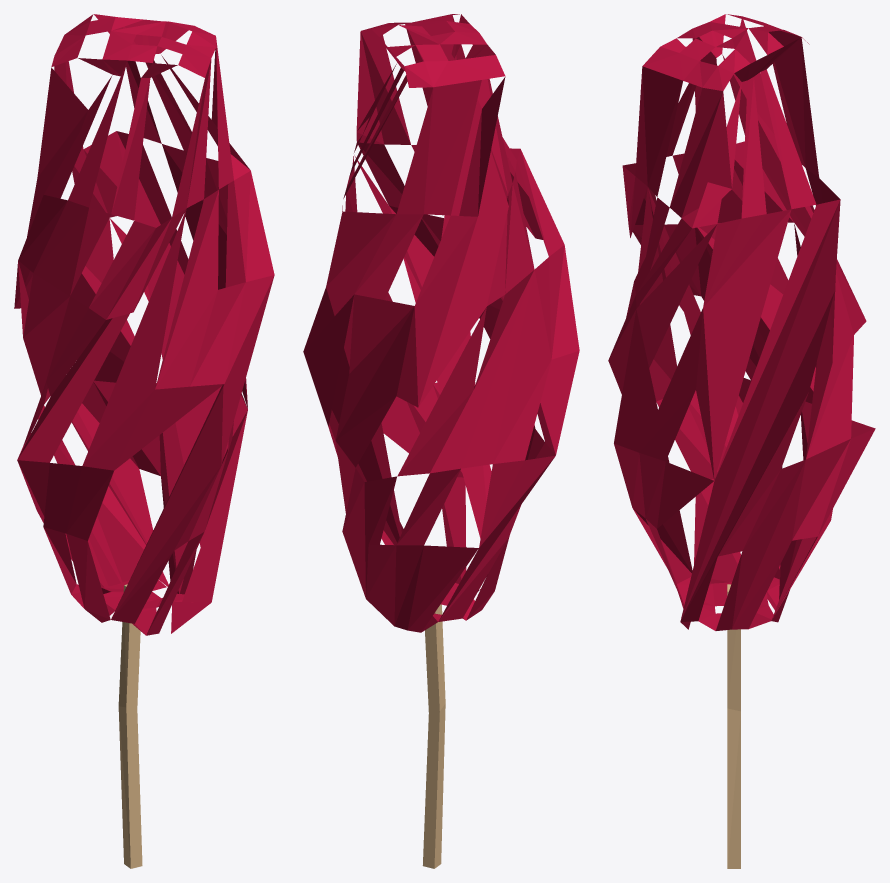
Rendered from world_3_tree_medium.dae.
3 renders of one model, left to right at view 1: azimuth 30°, elevation 25°; view 2: azimuth 150°, elevation 25°; view 3: azimuth 270°, elevation 25°, orthographic.
Parts seen in each view (by area): view 1: medium_cherry_leaves, medium_cherry_base; view 2: medium_cherry_leaves, medium_cherry_base; view 3: medium_cherry_leaves, medium_cherry_base.
Boxes of the visible parts, bbox=[...] form: medium_cherry_leaves: bbox=[14, 14, 274, 635]; medium_cherry_base: bbox=[118, 584, 142, 868]; medium_cherry_leaves: bbox=[303, 14, 579, 632]; medium_cherry_base: bbox=[422, 604, 445, 868]; medium_cherry_leaves: bbox=[608, 14, 875, 630]; medium_cherry_base: bbox=[727, 584, 740, 868].
Size of the model in its own units: 1.47 by 1.52 by 5.23.
